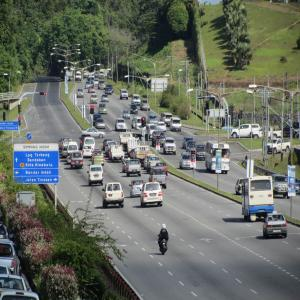Vehicle-registration-plate: (74, 160, 80, 166), (275, 230, 282, 234), (137, 188, 143, 192), (168, 149, 174, 153), (150, 194, 157, 197), (133, 169, 137, 173), (95, 175, 99, 178), (98, 159, 102, 162), (88, 152, 91, 154)
